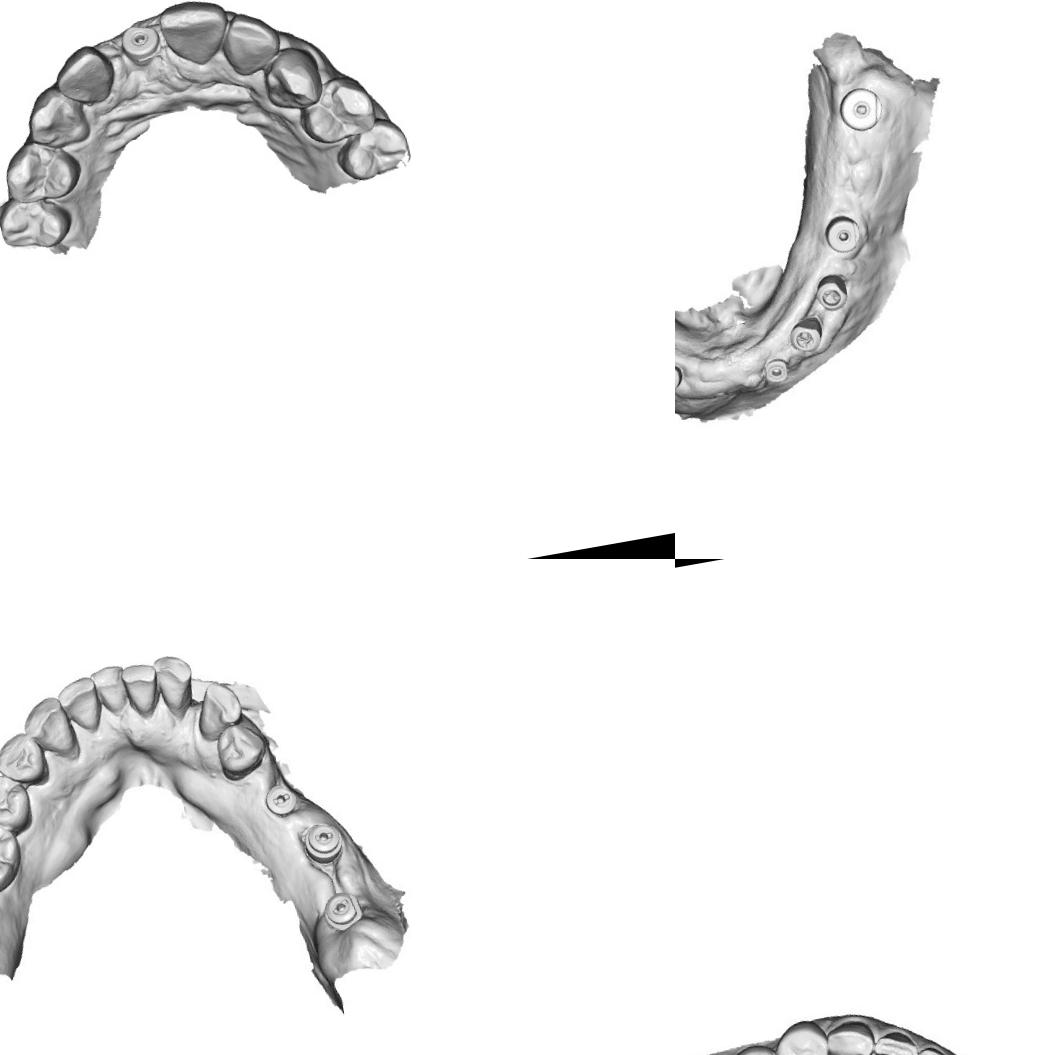canine: (256, 40, 328, 115), (20, 81, 93, 154), (20, 691, 82, 764), (188, 676, 246, 744), (822, 1014, 882, 1055)
implant: (830, 74, 884, 138), (114, 17, 164, 69), (818, 207, 866, 260), (785, 313, 829, 362), (811, 272, 854, 315), (761, 351, 794, 392), (675, 355, 686, 398)
implant_minus: (319, 886, 370, 939), (297, 816, 344, 866), (256, 775, 304, 823)
incisor: (214, 3, 287, 81), (154, 0, 235, 68), (48, 40, 120, 112), (148, 652, 197, 714), (59, 674, 106, 735), (120, 664, 160, 716), (92, 667, 130, 717), (871, 1025, 918, 1055), (909, 1044, 952, 1055)
molar: (0, 823, 21, 893)
premolar: (293, 68, 382, 150), (0, 132, 89, 209), (330, 114, 414, 185), (0, 189, 75, 256), (209, 722, 272, 782), (0, 728, 51, 792), (0, 768, 36, 838), (777, 1022, 832, 1055), (727, 1039, 786, 1055)
